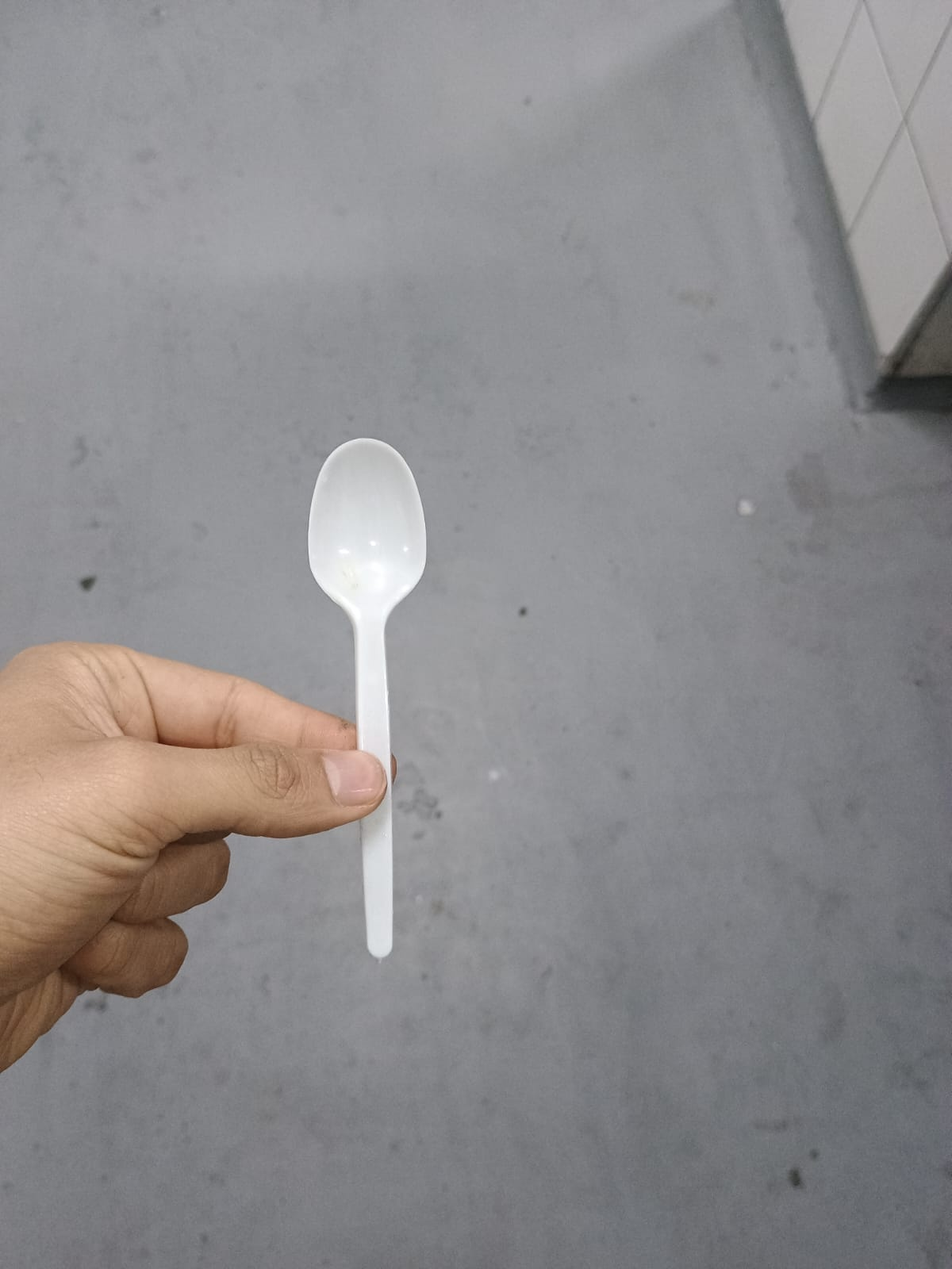Ordinario: (306, 412, 434, 956)
